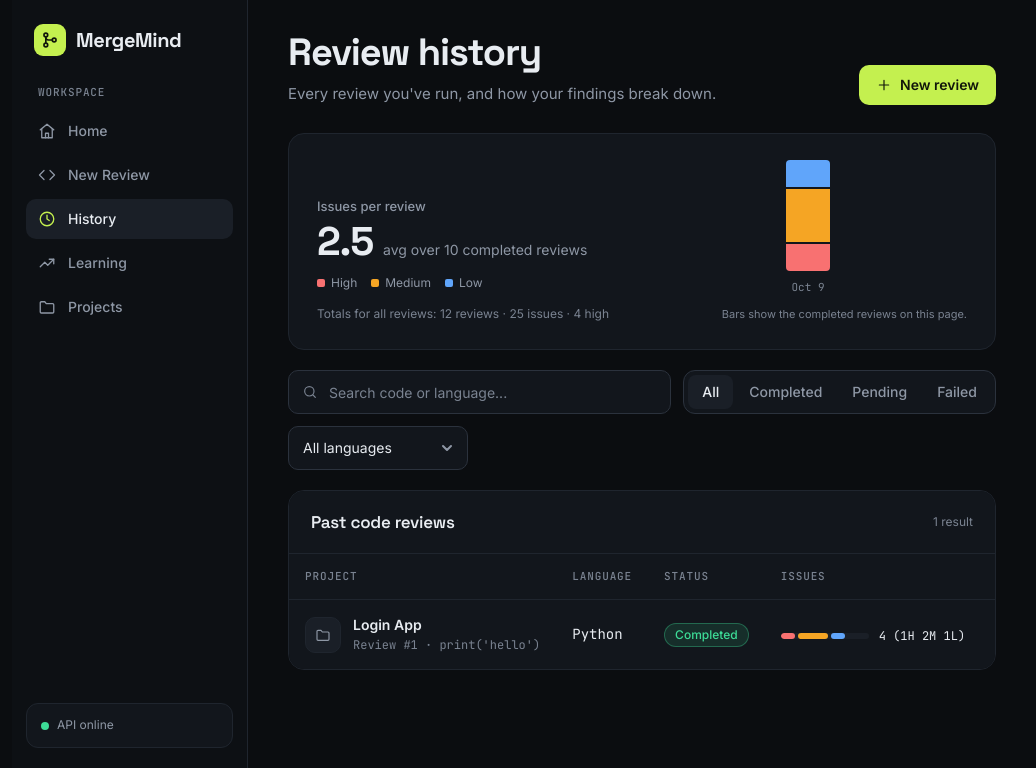
Test: Review History (Stage 6) › resets the search box when the URL changes from outside
Expected: the text "4 (1H 2M 1L)" is shown, [879, 627, 965, 646]
In the search field labelled "Search code or language": (480, 392) [288, 370, 671, 414], type "foo"
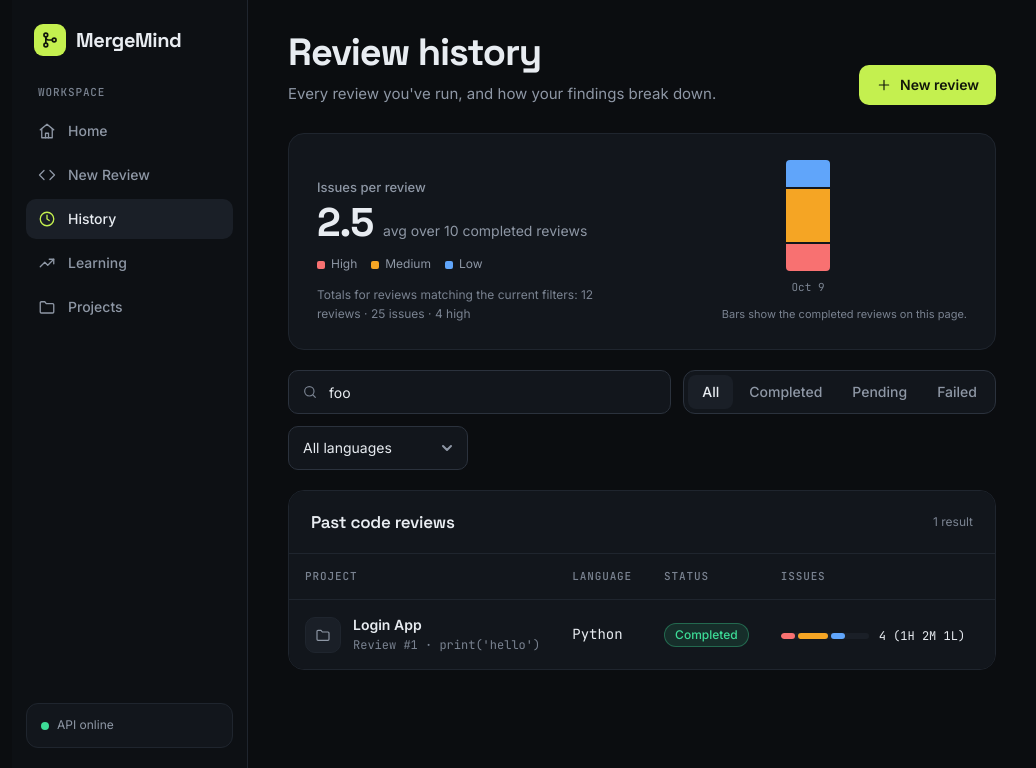
Click the link "History": click(130, 219) [26, 199, 233, 239]
(page scrolled)
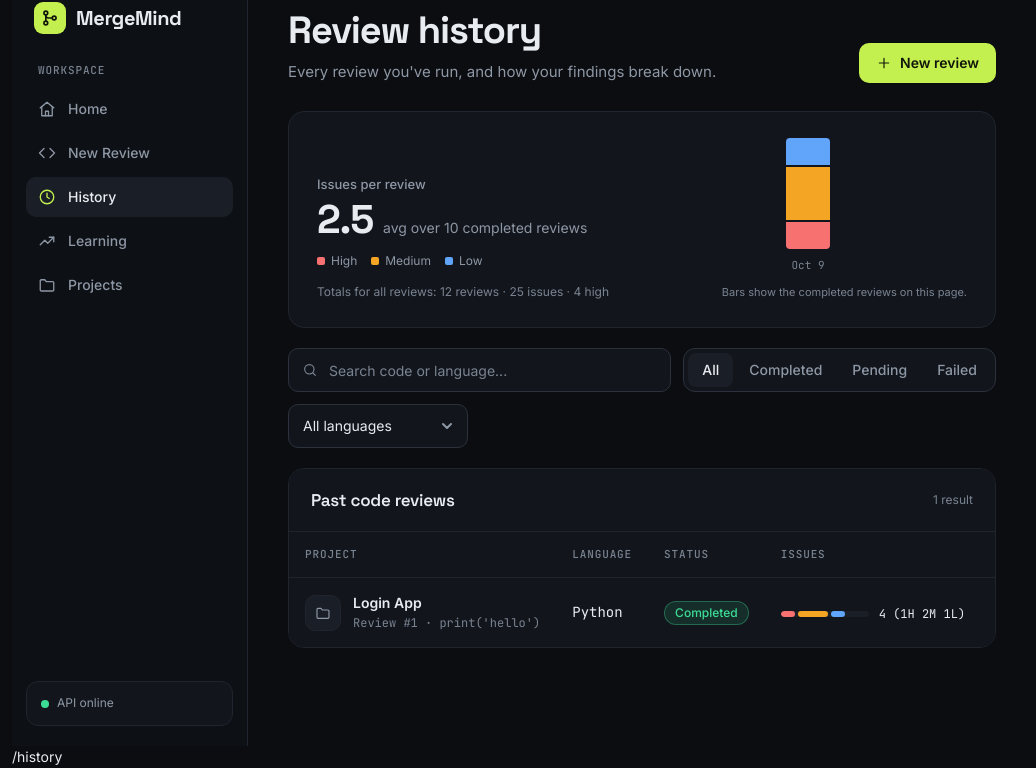
Expected: the search field labelled "Search code or language" is empty, [288, 348, 671, 392]
Expected: the text with test id "location" reads "/history", [12, 748, 62, 765]
